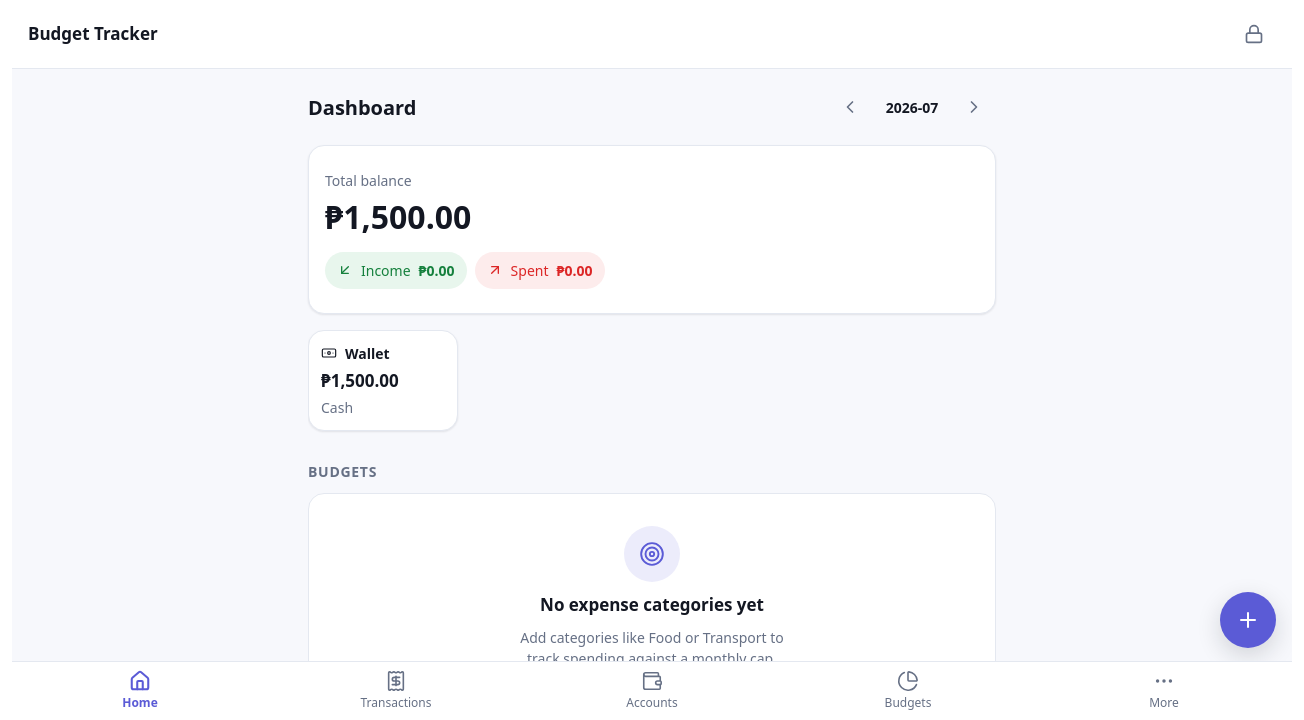
Test: AccountsScreen › deletes an account after confirmation
The width and height of the screenshot is (1304, 720).
Expected: the button named "Lock" is shown, left=1232, top=12, right=1276, bottom=56
Click the button "Accounts" at [652, 691], box left=524, top=662, right=780, bottom=719
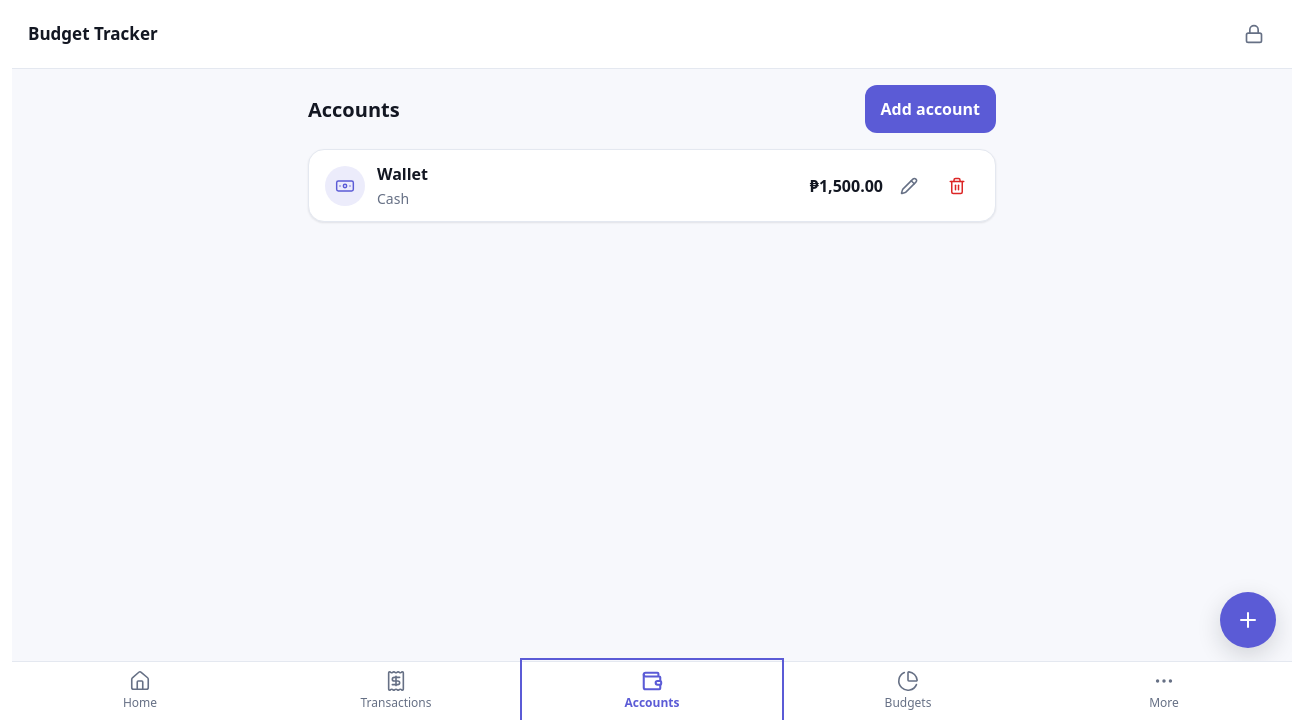
Click the button named "Delete Wallet" at [957, 186], box left=935, top=164, right=979, bottom=208
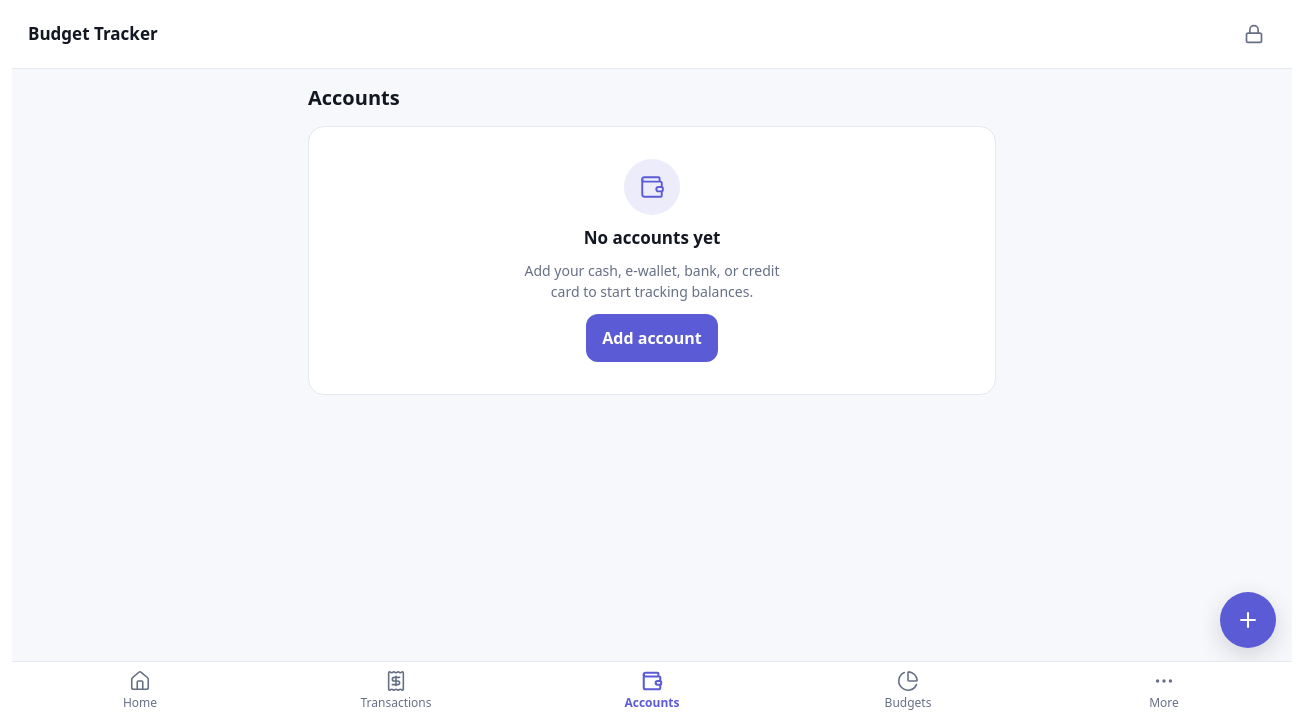
Expected: the heading "No accounts yet" is shown, left=584, top=227, right=720, bottom=248
